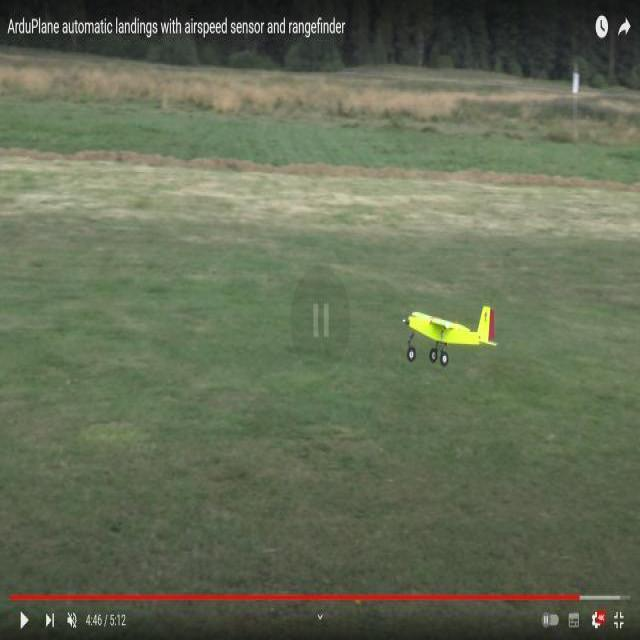UAV: (396, 288, 466, 391)
